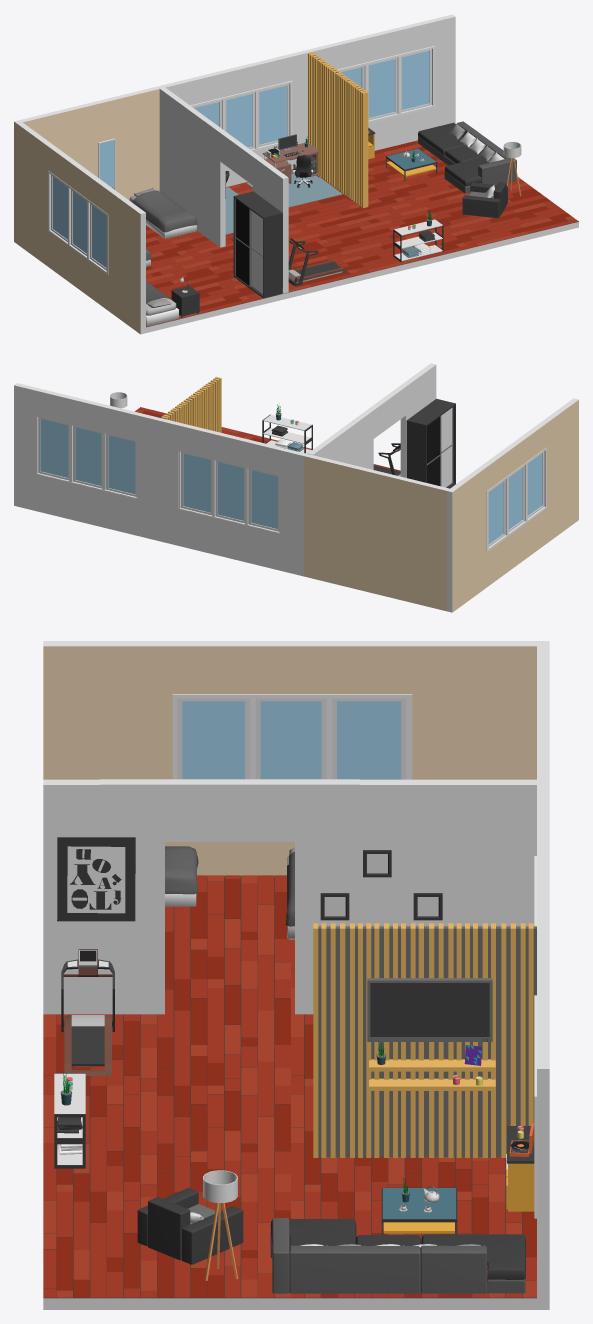
Rendered from room_1.glb.
The picture shows the model from 3 angles, top to bottom: view 1: azimuth 30°, elevation 25°; view 2: azimuth 150°, elevation 25°; view 3: azimuth 270°, elevation 25°; orthographic projection. The views are drawn at different scales.
Visible parts, largest first — view 1: Walls_177.005, floor_001.003, floor_001.001, Walls_006.003, Walls_011.001, Walls_177.001, window_021.001, closet_019.001, Walls_177.002, window_021.002, Walls_028.001, window_021.003 (+30 smaller); view 2: Walls_177.005, window_021.002, window_021.001, Walls_006.005, Walls_177.002, Walls_177.001, closet_019.001, Walls_006.006, Walls_006.008, window_021.003, Walls_006.002, Walls_028.001 (+10 smaller); view 3: Walls_028.001, Walls_006.003, floor_001.003, window_021.003, Walls_050.001, floor_001.005, floor_001.001, Walls_177.001, Walls_177.002, sofa_028.001, Walls_011.001, Walls_177.003 (+44 smaller).
Part boxes in pixels (box(x1,y1,x2,y2)): Walls_177.005: box(20, 85, 164, 200); floor_001.003: box(300, 202, 469, 274); floor_001.001: box(409, 177, 578, 247); Walls_006.003: box(159, 87, 208, 235); Walls_011.001: box(146, 142, 578, 332); Walls_177.001: box(107, 188, 145, 334); window_021.001: box(337, 46, 435, 123); closet_019.001: box(233, 191, 282, 298); Walls_177.002: box(14, 120, 53, 266); window_021.002: box(190, 80, 292, 151); Walls_028.001: box(204, 119, 273, 247); window_021.003: box(48, 170, 108, 274); Walls_177.005: box(304, 454, 449, 611); window_021.002: box(178, 451, 279, 532); window_021.001: box(36, 416, 137, 498); Walls_006.005: box(137, 413, 181, 545); Walls_177.002: box(447, 465, 487, 612); Walls_177.001: box(541, 398, 578, 543); closet_019.001: box(406, 398, 455, 488); Walls_006.006: box(36, 474, 137, 535); Walls_006.008: box(178, 508, 279, 570); window_021.003: box(486, 447, 546, 551); Walls_006.002: box(279, 448, 306, 576); Walls_028.001: box(352, 373, 422, 477); Walls_028.001: box(100, 779, 359, 1014); Walls_006.003: box(359, 779, 536, 926); floor_001.003: box(43, 1085, 290, 1191); window_021.003: box(172, 694, 412, 779); Walls_050.001: box(318, 926, 536, 1156); floor_001.005: box(43, 979, 290, 1085); floor_001.001: box(43, 1191, 290, 1297); Walls_177.001: box(43, 641, 176, 846); Walls_177.002: box(410, 641, 549, 779); sofa_028.001: box(270, 1218, 525, 1293); Walls_011.001: box(43, 876, 536, 1309); Walls_177.003: box(176, 641, 410, 694).
Bounding box in the file's own units: 16.01 × 4.21 × 8.
Materials: 1 (1 with a texture image).
